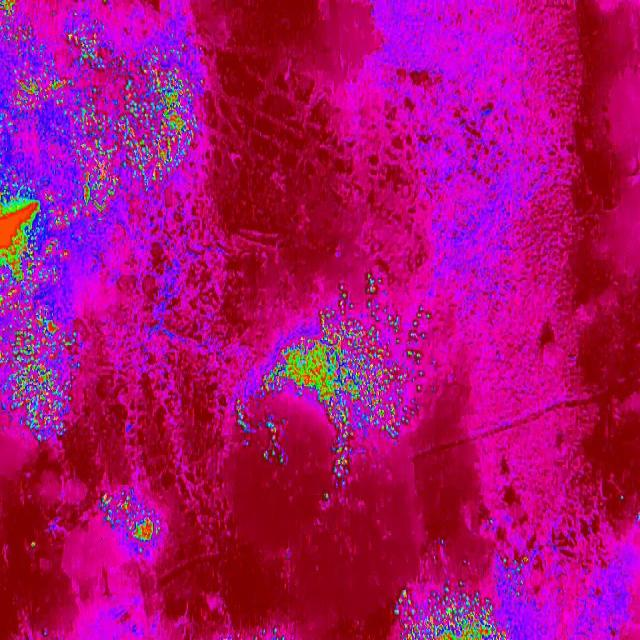fire: (0, 0, 84, 445), (232, 286, 439, 444), (85, 0, 208, 245), (390, 585, 510, 640), (96, 485, 166, 554), (326, 446, 359, 502)
